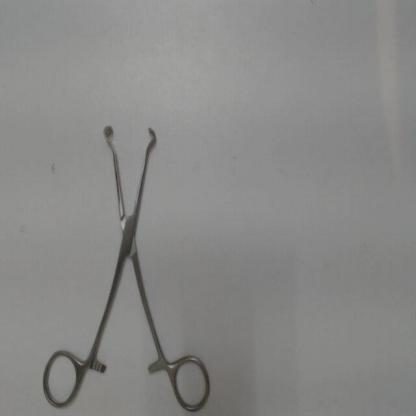Babcock Tissue Forceps: (37, 119, 218, 414)
